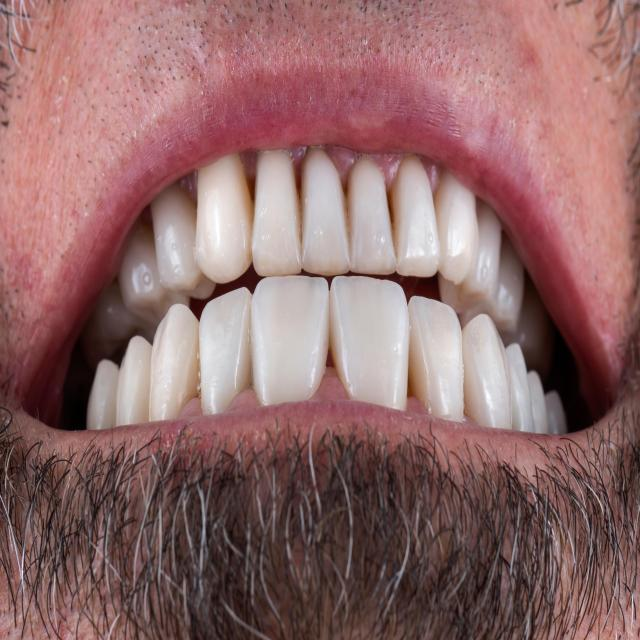tooth: (330, 276, 410, 411), (250, 275, 330, 406), (196, 153, 254, 284), (151, 183, 216, 299), (117, 228, 190, 327), (408, 296, 464, 424), (438, 203, 502, 312), (199, 287, 252, 415), (455, 239, 525, 333), (301, 148, 352, 275), (252, 149, 302, 276), (149, 303, 201, 422), (391, 155, 441, 277), (347, 157, 398, 274), (83, 284, 157, 363), (462, 314, 511, 429), (432, 169, 479, 284), (116, 335, 152, 427), (506, 344, 535, 432), (87, 358, 119, 430), (528, 372, 549, 434), (545, 394, 567, 434)
